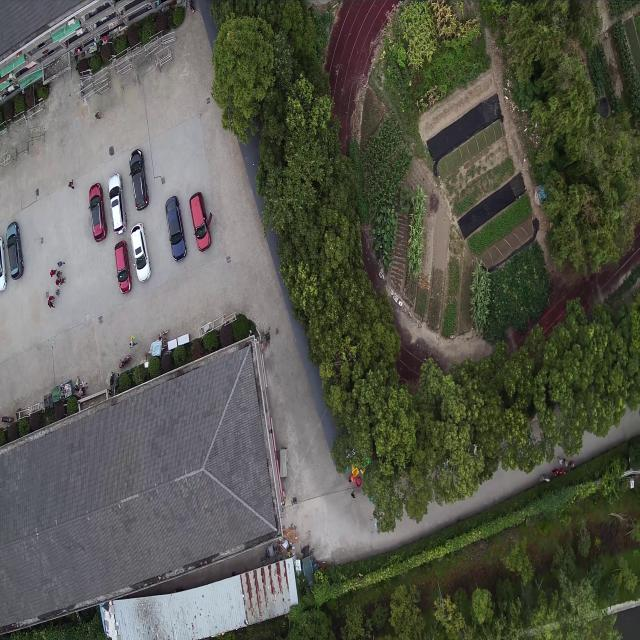UAV: (369, 517, 383, 535)
